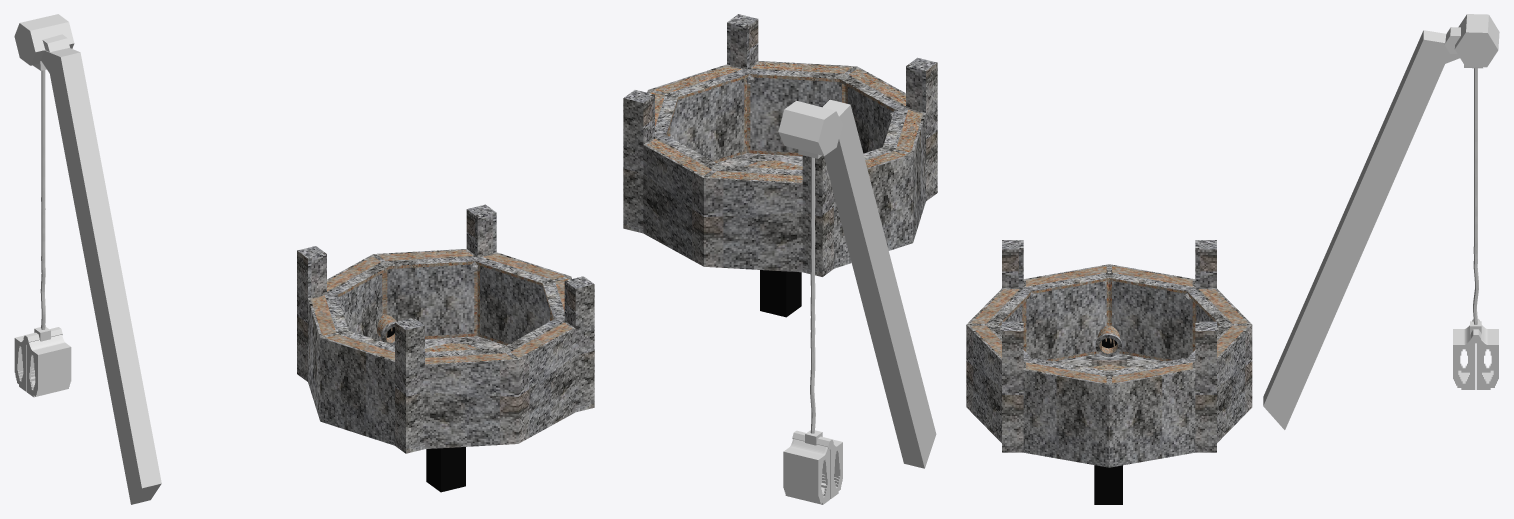
The model's file is ArenaMOD.fbx.
The picture shows the model from 3 angles, left to right: view 1: azimuth 30°, elevation 25°; view 2: azimuth 150°, elevation 25°; view 3: azimuth 270°, elevation 25°; orthographic projection. The views are drawn at different scales.
Parts seen in each view (by area): view 1: Cube.006, Cube, Cube.009, Cube.012, Cube.007, Cylinder.005, Cube.010; view 2: Cube.006, Cube, Cube.009, Cube.010, Cube.007, Cylinder.005, Cube.012; view 3: Cube.006, Cube, Cube.009, Cube.010, Cube.012, Cube.007, Cylinder.005, Cylinder.003.
Part boxes in pixels (x1,y1,x2,y2): Cube.006: [308, 264, 575, 444]; Cube: [297, 204, 594, 453]; Cube.009: [14, 14, 161, 504]; Cube.012: [26, 334, 71, 397]; Cube.007: [426, 447, 465, 492]; Cylinder.005: [40, 70, 45, 329]; Cube.010: [14, 335, 35, 391]; Cube.006: [643, 77, 925, 267]; Cube: [623, 14, 937, 276]; Cube.009: [778, 99, 936, 468]; Cube.010: [783, 439, 830, 504]; Cube.007: [760, 270, 801, 317]; Cylinder.005: [810, 157, 815, 433]; Cube.012: [821, 439, 842, 498]; Cube.006: [966, 280, 1252, 463]; Cube: [966, 240, 1252, 467]; Cube.009: [1263, 14, 1499, 429]; Cube.010: [1476, 325, 1498, 389]; Cube.012: [1453, 325, 1475, 389]; Cube.007: [1094, 465, 1122, 504]; Cylinder.005: [1473, 68, 1478, 324]; Cylinder.003: [1095, 325, 1121, 356].
Size of the model in its own units: 3638 by 3944 by 4729.
